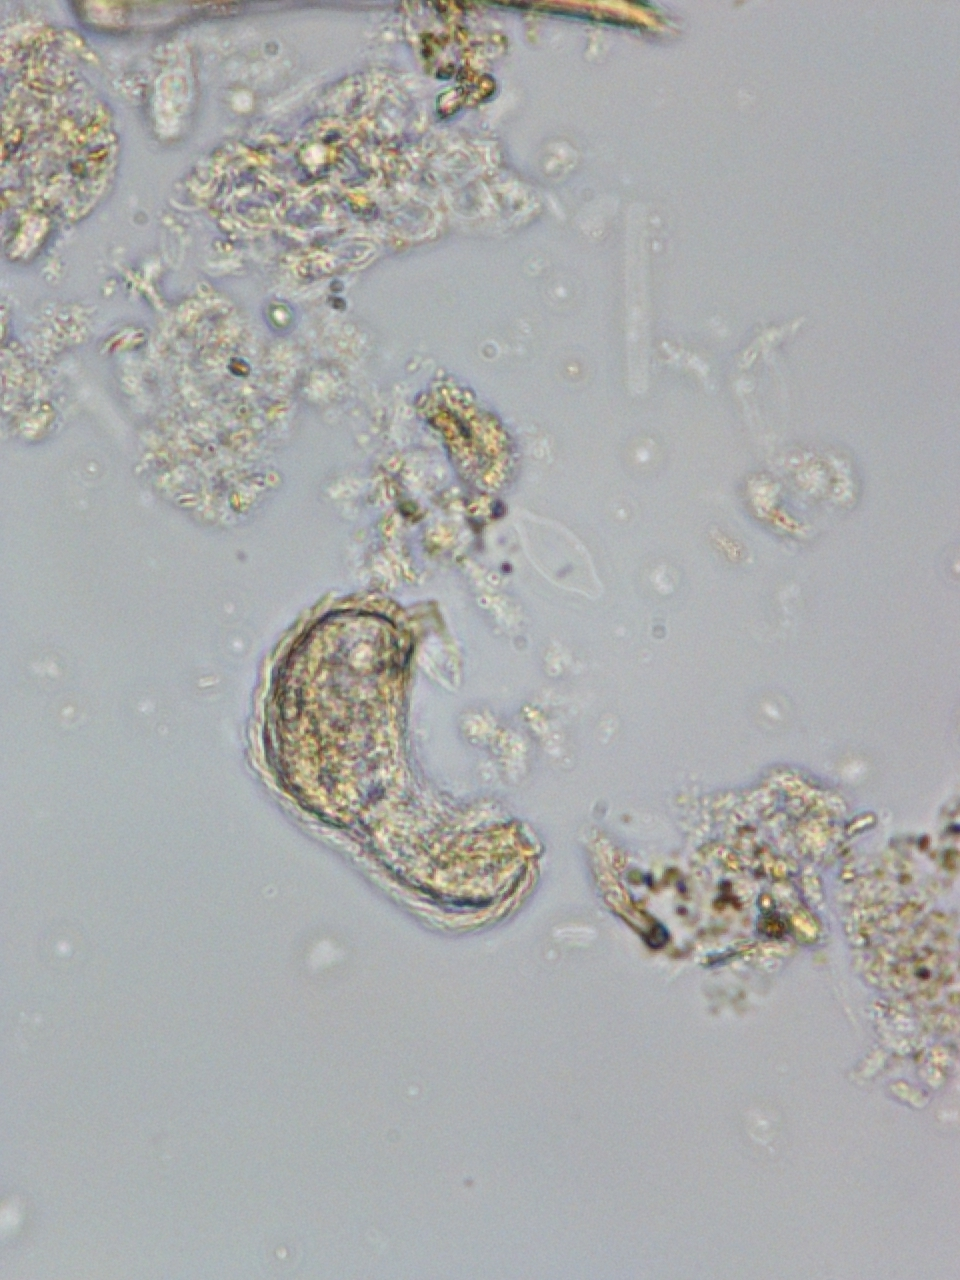gastrotricha: (243, 581, 548, 942)
